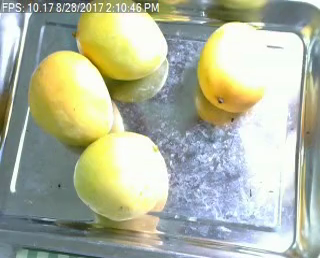Mango: (73, 133, 168, 223), (30, 49, 114, 143), (74, 2, 169, 77), (199, 20, 271, 112)
